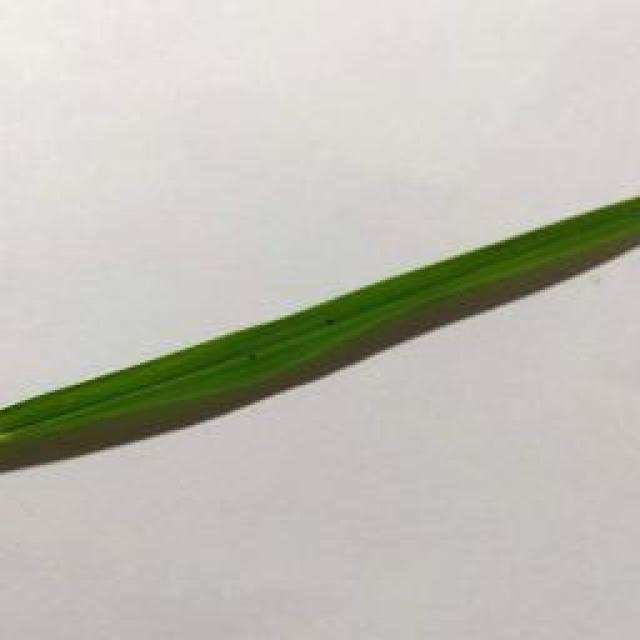Brown_Spot: (322, 314, 332, 336)
